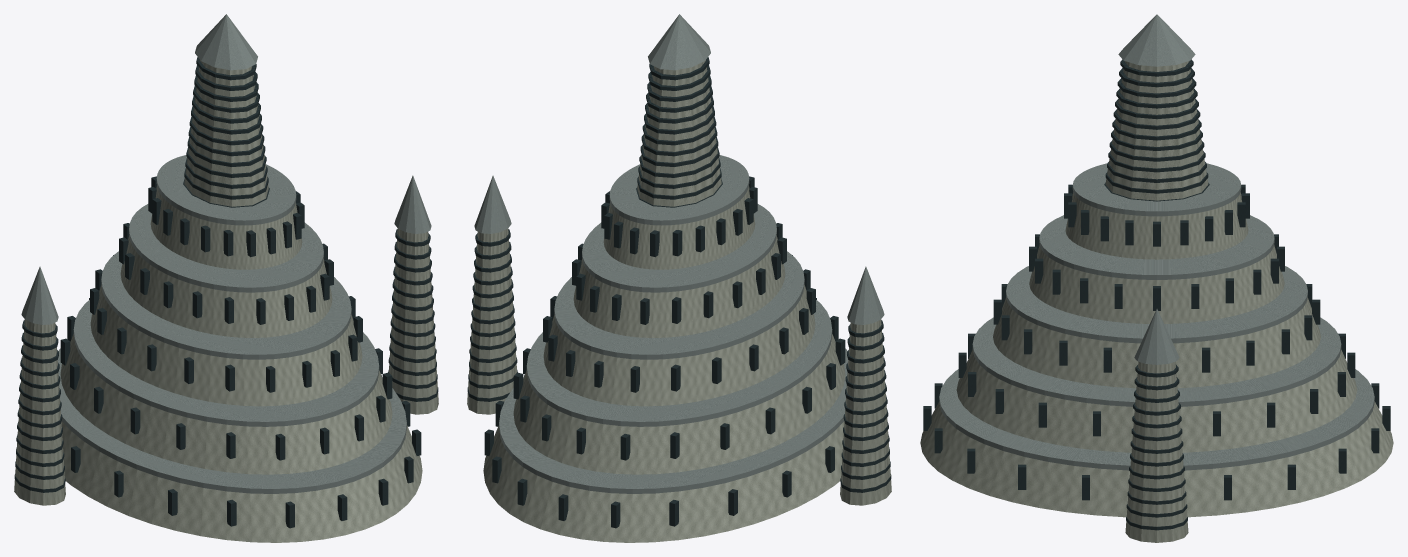
Rendered from archive_vault_01.fbx.
3 renders of one model, left to right at view 1: azimuth 30°, elevation 25°; view 2: azimuth 150°, elevation 25°; view 3: azimuth 270°, elevation 25°, orthographic.
Visible parts, largest first — view 1: archive_vault_01_LOD0; view 2: archive_vault_01_LOD0; view 3: archive_vault_01_LOD0.
Part boxes in pixels (x1,y1,x2,y2): archive_vault_01_LOD0: (14, 14, 438, 542); archive_vault_01_LOD0: (467, 14, 891, 542); archive_vault_01_LOD0: (920, 14, 1393, 542).
Size of what is drawn, in the model's own units: 1 by 1 by 1.
